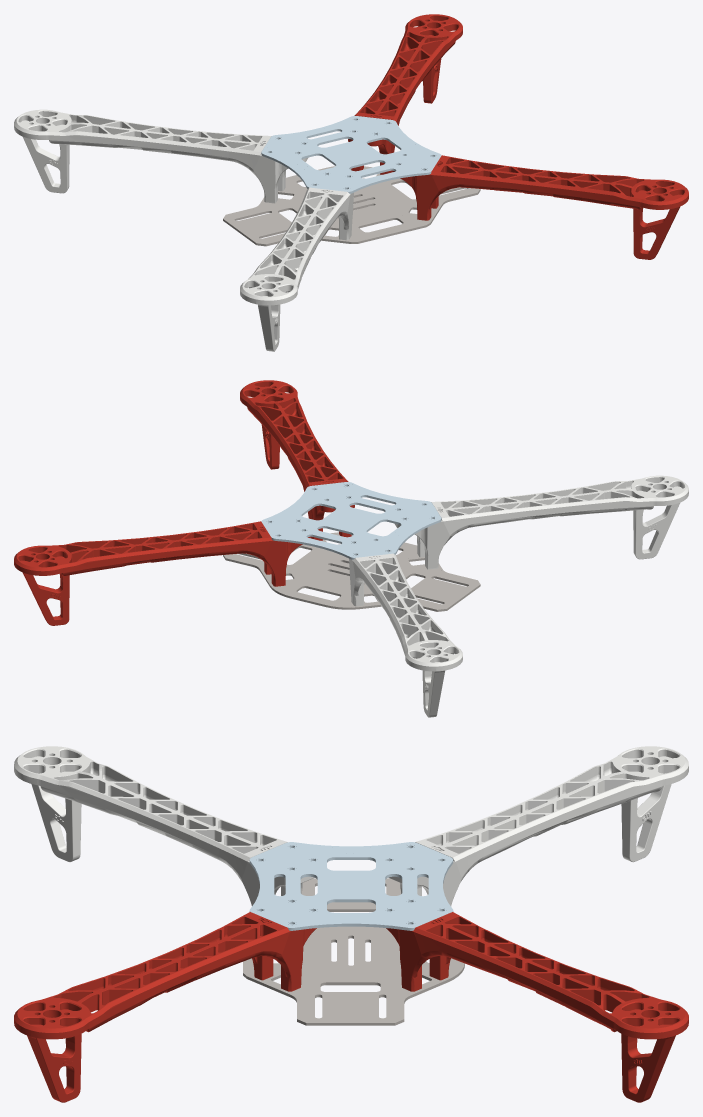
Rendered from DJI_F450_Flame_Wheel_Frame.glb.
3 renders of one model, top to bottom at view 1: azimuth 30°, elevation 25°; view 2: azimuth 150°, elevation 25°; view 3: azimuth 270°, elevation 25°, orthographic. The views are drawn at different scales.
Parts seen in each view (by area): view 1: empty_7, empty_6, empty_4, empty_5, empty_2, empty_3; view 2: empty_5, empty_3, empty_4, empty_7, empty_2, empty_6; view 3: empty_6, empty_3, empty_5, empty_7, empty_4, empty_2.
Part boxes in pixels (<box>): empty_7: <box>14,109,308,203</box>; empty_6: <box>392,155,688,259</box>; empty_4: <box>261,116,441,193</box>; empty_5: <box>240,187,353,351</box>; empty_2: <box>223,166,480,246</box>; empty_3: <box>348,14,462,174</box>; empty_5: <box>394,475,688,569</box>; empty_3: <box>14,521,310,625</box>; empty_4: <box>261,482,441,559</box>; empty_7: <box>349,553,462,717</box>; empty_2: <box>223,532,480,611</box>; empty_6: <box>240,380,354,540</box>; empty_6: <box>14,912,316,1102</box>; empty_3: <box>386,912,688,1102</box>; empty_5: <box>14,746,314,905</box>; empty_7: <box>388,746,688,905</box>; empty_4: <box>249,842,453,930</box>; empty_2: <box>243,878,464,1025</box>.
Size of the model in its own units: 358 by 55.05 by 358.
